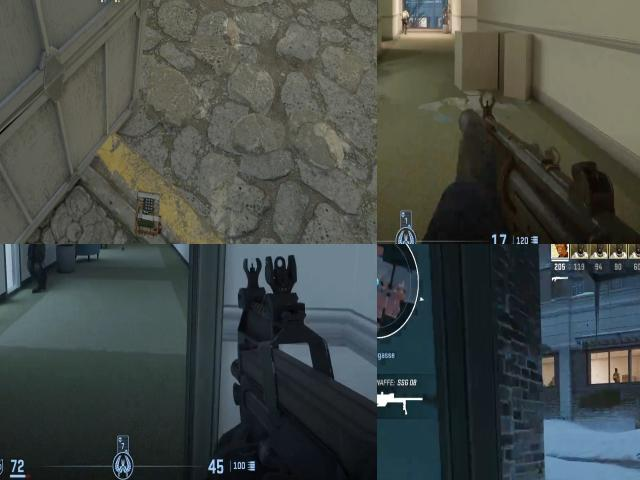Bomb: (128, 180, 172, 242)
T: (611, 365, 622, 382), (402, 8, 409, 26)
T-Head: (613, 366, 620, 374), (403, 10, 409, 15)
